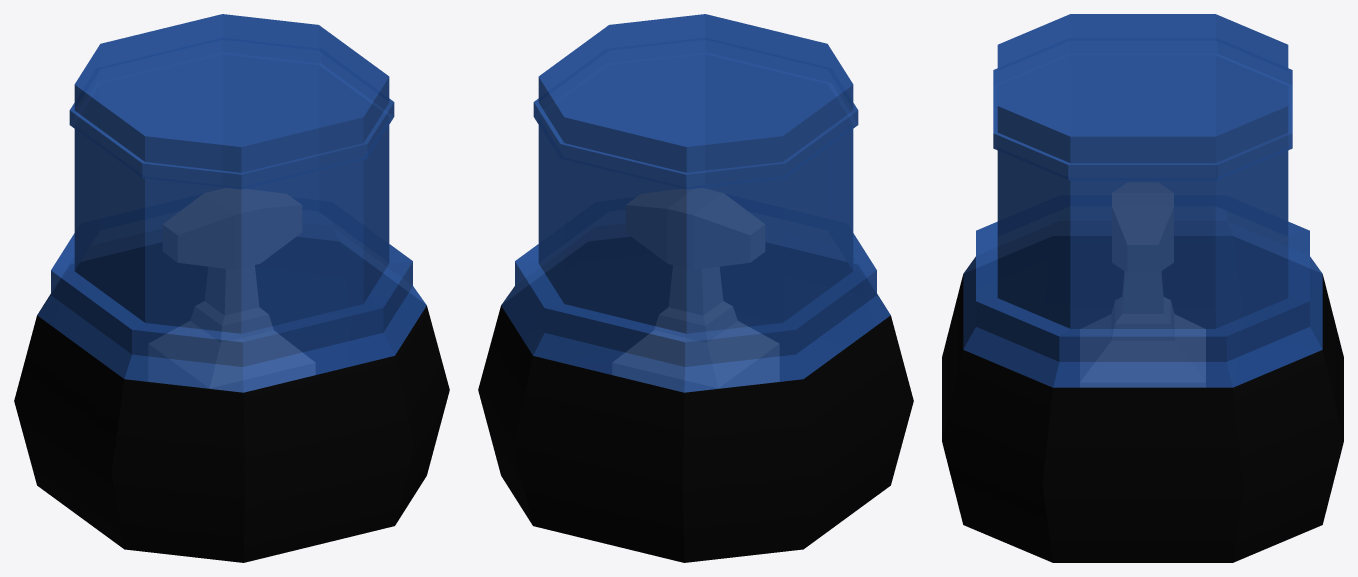
The model's file is Saft_Blandare.fbx.
3 renders of one model, left to right at view 1: azimuth 30°, elevation 25°; view 2: azimuth 150°, elevation 25°; view 3: azimuth 270°, elevation 25°, orthographic. The views are drawn at different scales.
Parts seen in each view (by area): view 1: SaftBlandare; view 2: SaftBlandare; view 3: SaftBlandare.
Part boxes in pixels (x1,y1,x2,y2): SaftBlandare: (14,14,449,562); SaftBlandare: (478,14,913,562); SaftBlandare: (942,14,1343,562).
Size of the model in its own units: 10.74 by 12.15 by 10.74.
